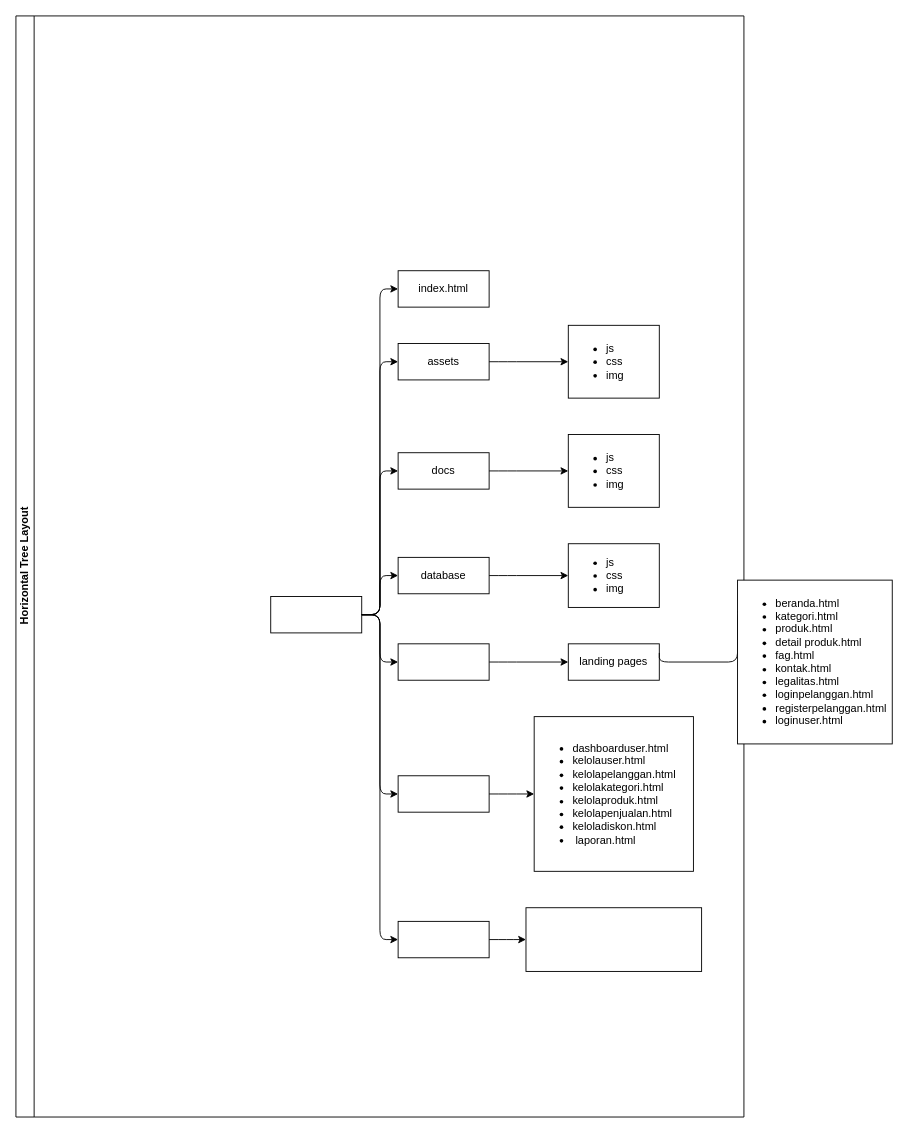
Some shapes in this 908 by 1133 pixel diagram are drawn without their labels. The centre of each missing label's shape, as x and y in pixels:
"admin" belongs at point 443,793.
"dashboardpelanggan.html riwayatpembelian.html" belongs at point 613,939.
"muliatanihub" belongs at point 316,614.
"pages" belongs at point 443,661.
"pelannggan" belongs at point 443,939.
